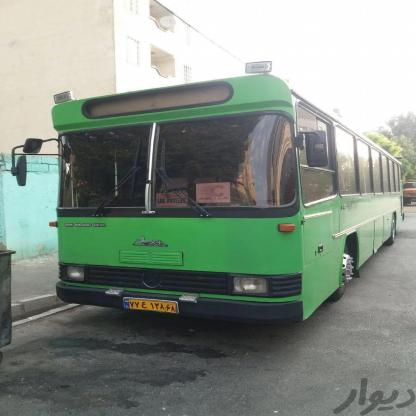Bus: (43, 69, 406, 322)
